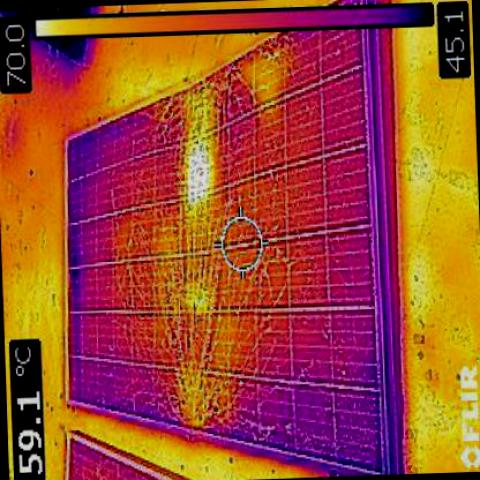fault: (182, 156, 214, 196)
